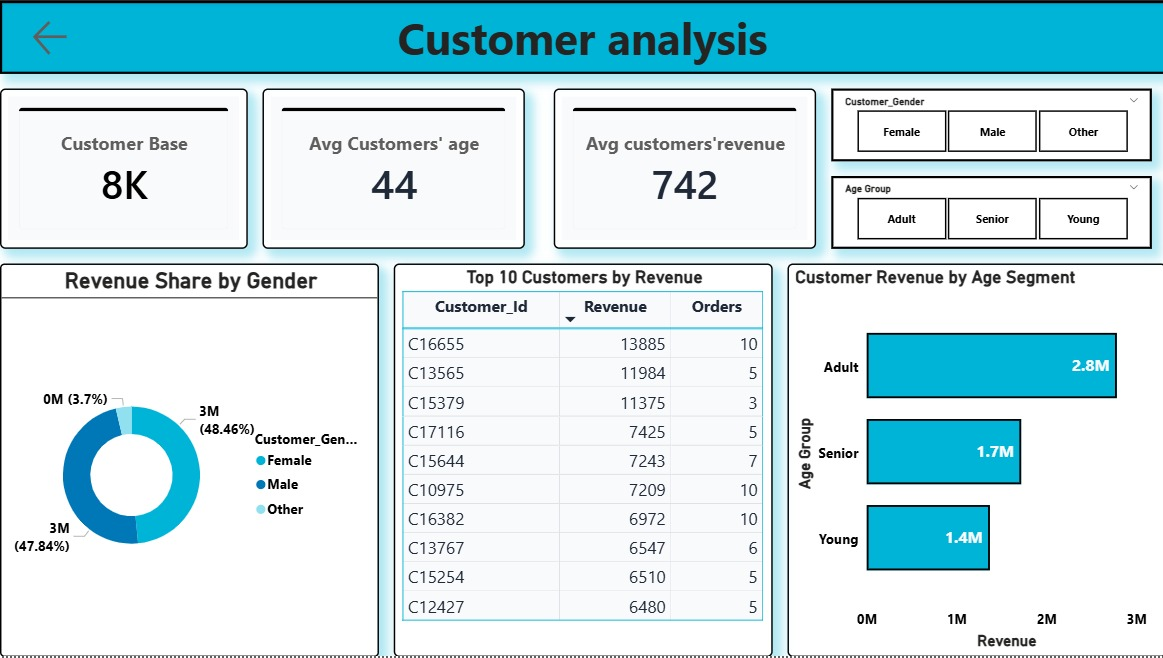

The page's visual inventory and layout, read from the dashboard file:
{"tool":"powerbi","page":{"name":"Page 2","canvas":[1280,720],"ordinal":1},"visuals":[{"type":"clusteredBarChart","title":"Customer Revenue by Age Segment","fields":{"Category":["Dim_customer.Age Group"],"Y":["Fact_Sales.Revenue"]},"box":[864,288,416,432],"z":0},{"type":"donutChart","title":"Revenue Share by Gender","fields":{"Category":["Dim_customer.Customer_Gender"],"Y":["Fact_Sales.Revenue"]},"box":[0,288,416,432],"z":1000},{"type":"tableEx","title":"Top 10 Customers by Revenue","fields":{"Values":["Dim_customer.Customer_Id","Fact_Sales.Revenue","Fact_Sales.Orders"]},"box":[432,288,416,432],"z":2000},{"type":"cardVisual","title":"Customer Base","fields":{"Data":["Dim_customer.Total customer"]},"box":[0,96,272,176],"z":3000},{"type":"cardVisual","fields":{"Data":["Fact_Sales.Avg customers'revenue"]},"box":[608,96,288,176],"z":4000},{"type":"cardVisual","fields":{"Data":["Dim_customer.Avg Customers' age"]},"box":[288,96,288,176],"z":5000},{"type":"textbox","box":[0,0,1280,80],"z":6000},{"type":"slicer","fields":{"Values":["Dim_customer.Customer_Gender"]},"box":[912,96,352,80],"z":6001},{"type":"slicer","fields":{"Values":["Dim_customer.Age Group"]},"box":[912,192,352,80],"z":6002},{"type":"actionButton","box":[32,16,80,48],"z":6003}]}

Visuals, with their boxes in screenshot pixels (x1, y1, x2, y2), scaled from the page's 1280x720 canvas onto the 1163x658 screenshot:
"Customer Revenue by Age Segment" clusteredBarChart: bbox=[785, 263, 1162, 657]
"Revenue Share by Gender" donutChart: bbox=[0, 263, 378, 657]
"Top 10 Customers by Revenue" tableEx: bbox=[393, 263, 770, 657]
"Customer Base" cardVisual: bbox=[0, 88, 247, 249]
cardVisual - Fact_Sales.Avg customers'revenue: bbox=[552, 88, 814, 249]
cardVisual - Dim_customer.Avg Customers' age: bbox=[262, 88, 523, 249]
textbox: bbox=[0, 0, 1162, 73]
slicer - Dim_customer.Customer_Gender: bbox=[829, 88, 1148, 161]
slicer - Dim_customer.Age Group: bbox=[829, 175, 1148, 249]
actionButton: bbox=[29, 15, 102, 58]
